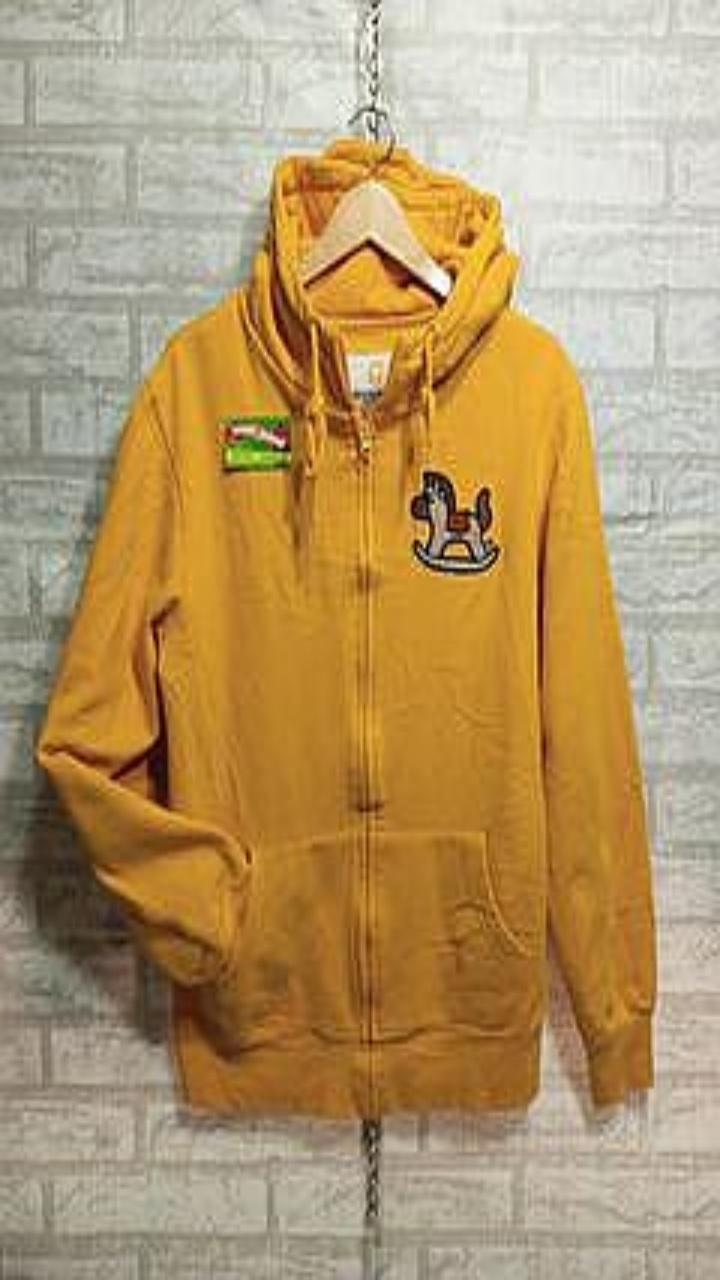Hoodie: (36, 137, 655, 1116)
